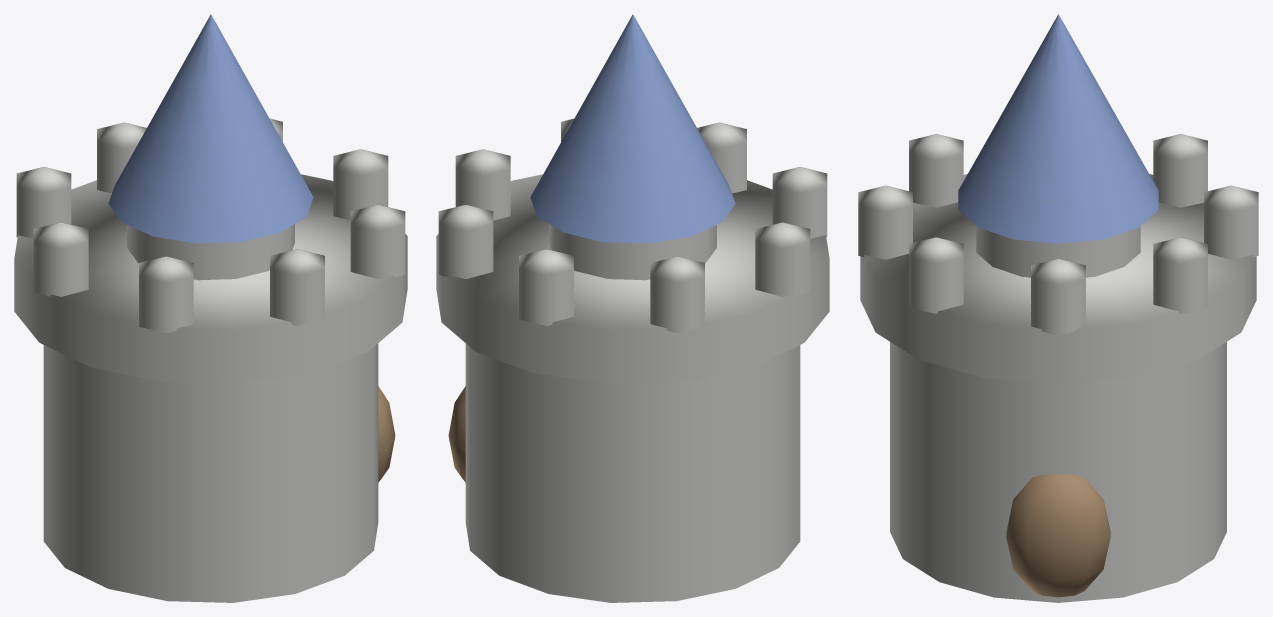
The model's file is castle.glb.
The picture shows the model from 3 angles, left to right: view 1: azimuth 30°, elevation 25°; view 2: azimuth 150°, elevation 25°; view 3: azimuth 270°, elevation 25°; orthographic projection.
Parts seen in each view (by area): view 1: Keep, Battlement, Roof, Turret, Merlon4, Merlon3, Merlon2, Merlon1, Merlon5, Merlon0, Merlon6, Gate; view 2: Keep, Battlement, Roof, Turret, Merlon4, Merlon5, Merlon6, Merlon7, Merlon3, Merlon0, Merlon2, Gate; view 3: Keep, Battlement, Roof, Gate, Turret, Merlon0, Merlon1, Merlon7, Merlon2, Merlon6, Merlon3, Merlon5.
Boxes of the visible parts, x1,y1,x2,y2 form: Keep: (43,343,378,602); Battlement: (14,174,407,383); Roof: (108,14,313,243); Turret: (127,173,294,280); Merlon4: (33,222,88,296); Merlon3: (139,256,193,333); Merlon2: (270,249,324,325); Merlon1: (350,204,405,278); Merlon5: (16,167,71,238); Merlon0: (333,149,388,220); Merlon6: (97,122,146,193); Gate: (378,386,395,482); Keep: (465,343,800,602); Battlement: (436,174,829,383); Roof: (530,14,735,243); Turret: (549,173,716,280); Merlon4: (755,222,810,296); Merlon5: (650,256,704,333); Merlon6: (519,249,573,325); Merlon7: (438,204,493,278); Merlon3: (772,167,827,238); Merlon0: (455,149,510,220); Merlon2: (697,122,746,193); Gate: (448,386,465,482); Keep: (890,342,1226,602); Battlement: (860,174,1256,383); Roof: (958,14,1158,243); Gate: (1006,474,1110,597); Turret: (976,175,1140,277); Merlon0: (1031,258,1085,335); Merlon1: (909,237,963,313); Merlon7: (1153,237,1207,313); Merlon2: (858,185,912,259); Merlon6: (1204,185,1258,259); Merlon3: (909,134,963,207); Merlon5: (1153,134,1207,207).
Size of the model in its own units: 0.97 by 1.36 by 0.9499.
